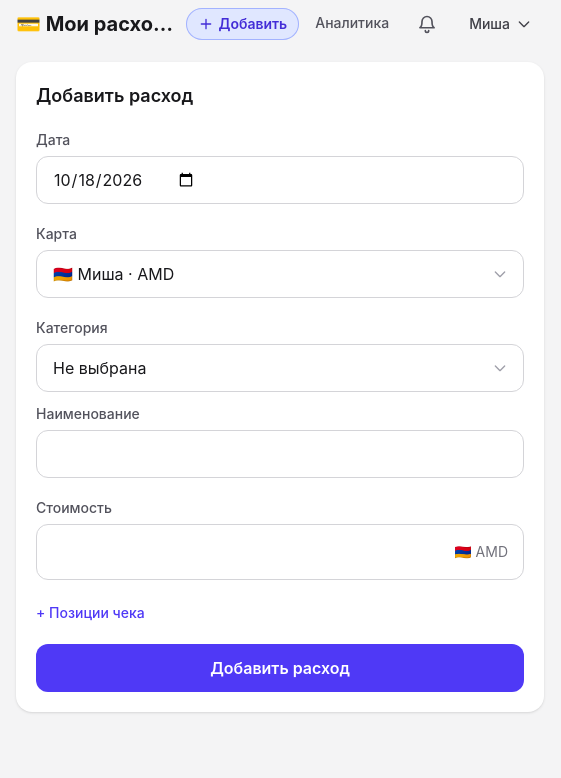
позиции чека на «Добавить» › ссылка раскрывает строку «название, цена, количество»; крестик последней строки её закрывает
Expected: the button "Добавить расход" is shown, [36,644,524,692]
Click the button "+ Позиции чека": (90,613) [36,603,145,623]
(page scrolled)
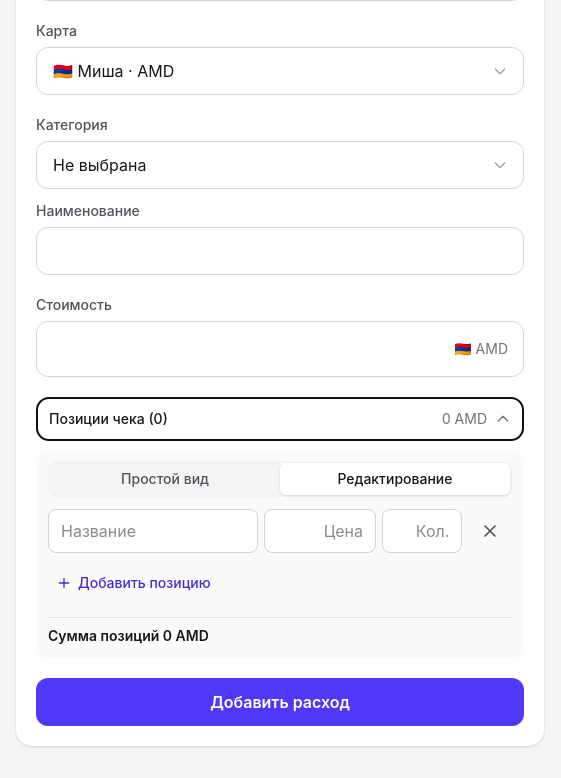
Result: the field named "Название позиции 1" is shown at [48,509,258,553]
Result: the field named "Цена позиции 1" is shown at [264,509,376,553]
Result: the field named "Количество позиции 1" is shown at [382,509,462,553]
Click the button "Добавить позицию": (133,583) [48,561,219,605]
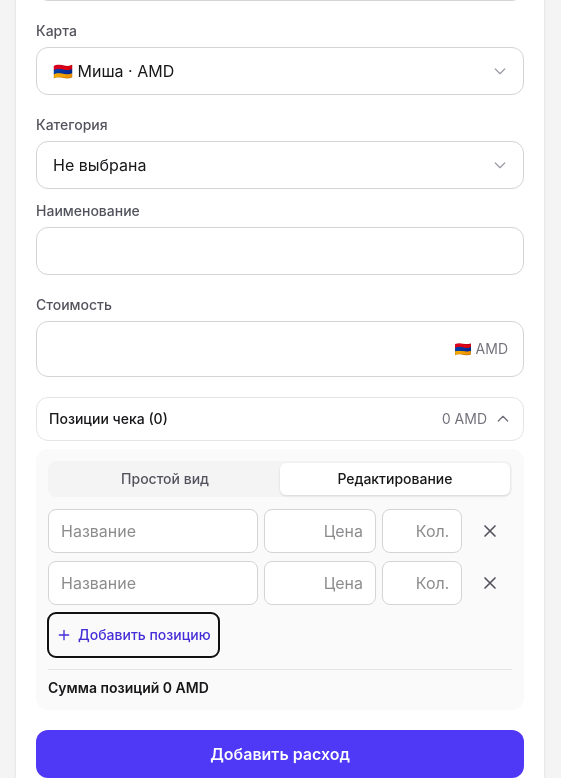
Result: the field named "Название позиции 2" is shown at [48,561,258,605]
Click the button named "Удалить позицию 2": (490,583) [468,561,512,605]
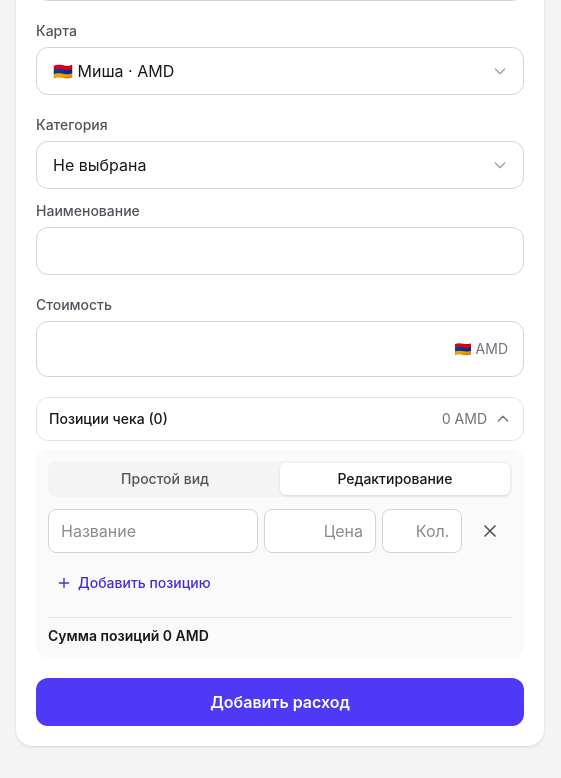
Click the button named "Удалить позицию 1": (490,531) [468,509,512,553]
(page scrolled)
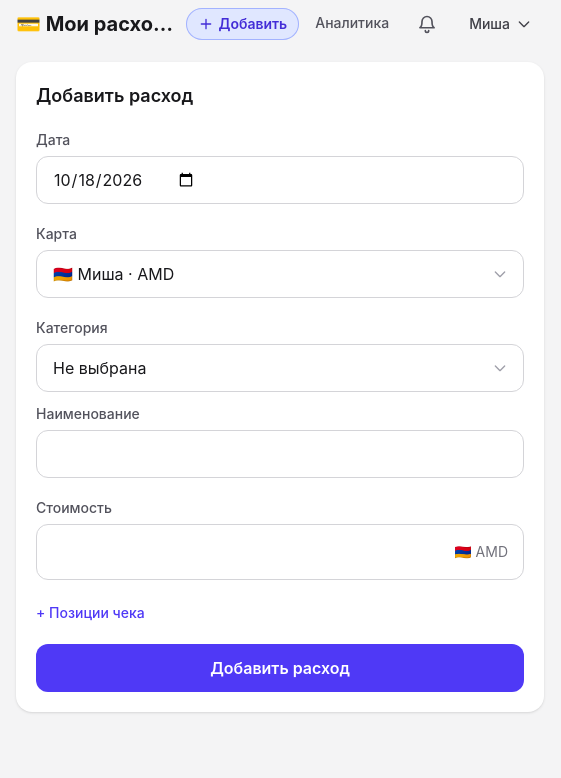
Result: the button "+ Позиции чека" is shown at [36,603,145,623]
